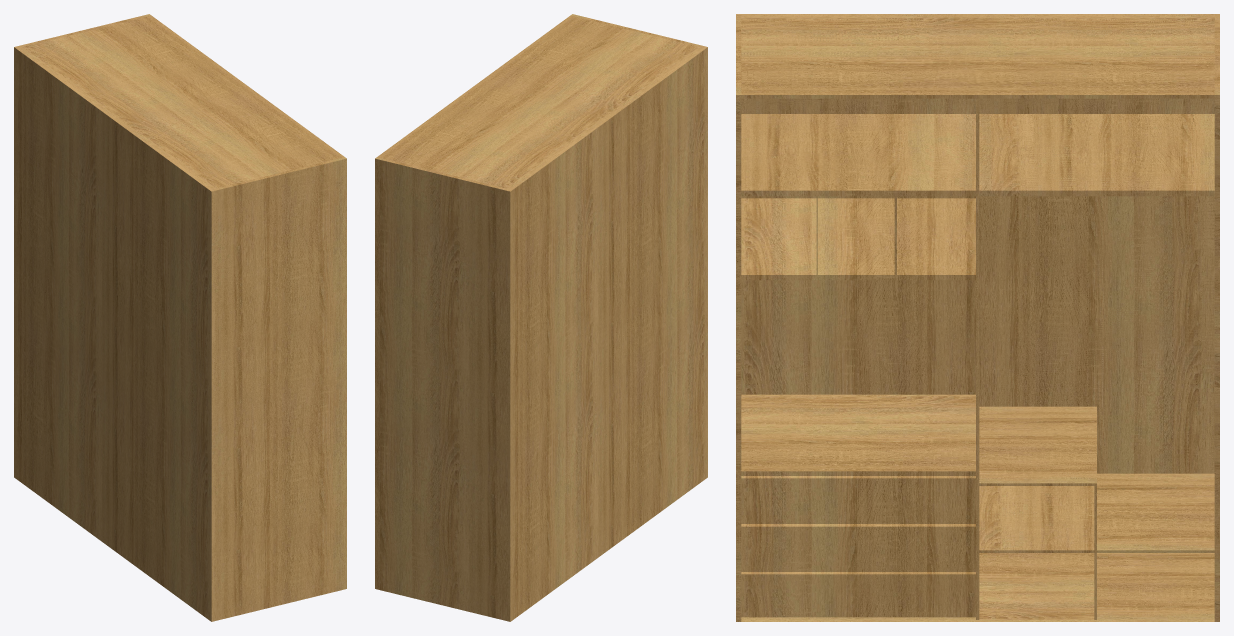
3 views of the same model, side by side, from view 1: azimuth 30°, elevation 25°; view 2: azimuth 150°, elevation 25°; view 3: azimuth 270°, elevation 25° (orthographic). The views are drawn at different scales.
Parts seen in each view (by area): view 1: group_0; view 2: group_0; view 3: group_0.
Boxes of the visible parts, x1,y1,x2,y2 form: group_0: (14,14,346,621); group_0: (375,14,707,621); group_0: (736,14,1219,621).
Size of the model in its own units: 27.56 by 69.61 by 83.66.
